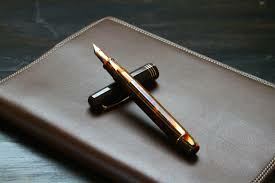pen: (91, 46, 199, 152)
